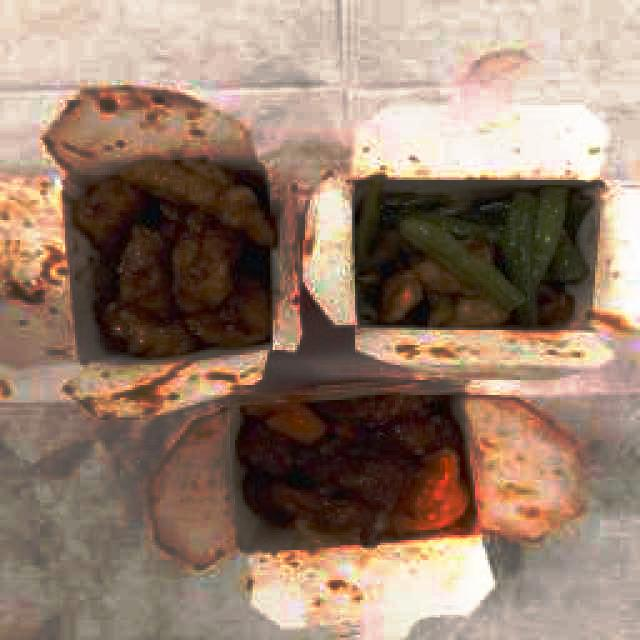Beijing Beef: (233, 391, 476, 544)
Kung Pao Chicken: (64, 166, 263, 340)
String Bean Chicken Breast: (356, 179, 593, 327)
